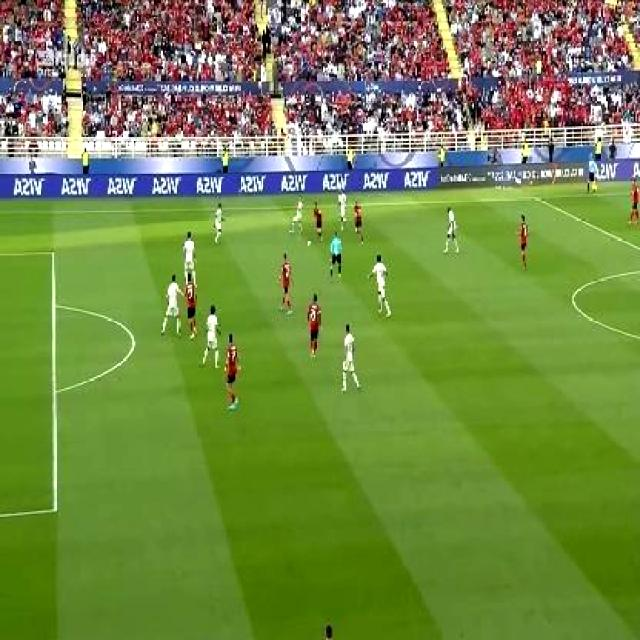bigarea_bottom_inner: (45, 498, 66, 520)
bigarea_top_inner: (49, 246, 60, 260)
bottom_arc_area_intersection: (46, 380, 63, 405)
midline_top_intersection: (532, 189, 542, 202)
top_arc_area_intersection: (50, 297, 61, 312)
